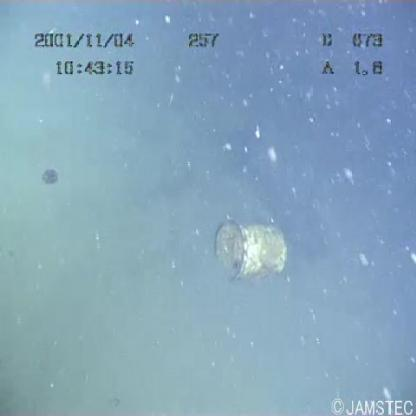Rác: (210, 221, 297, 288)
